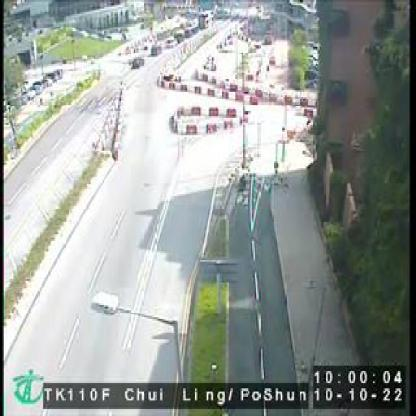Car: (129, 53, 147, 71)
